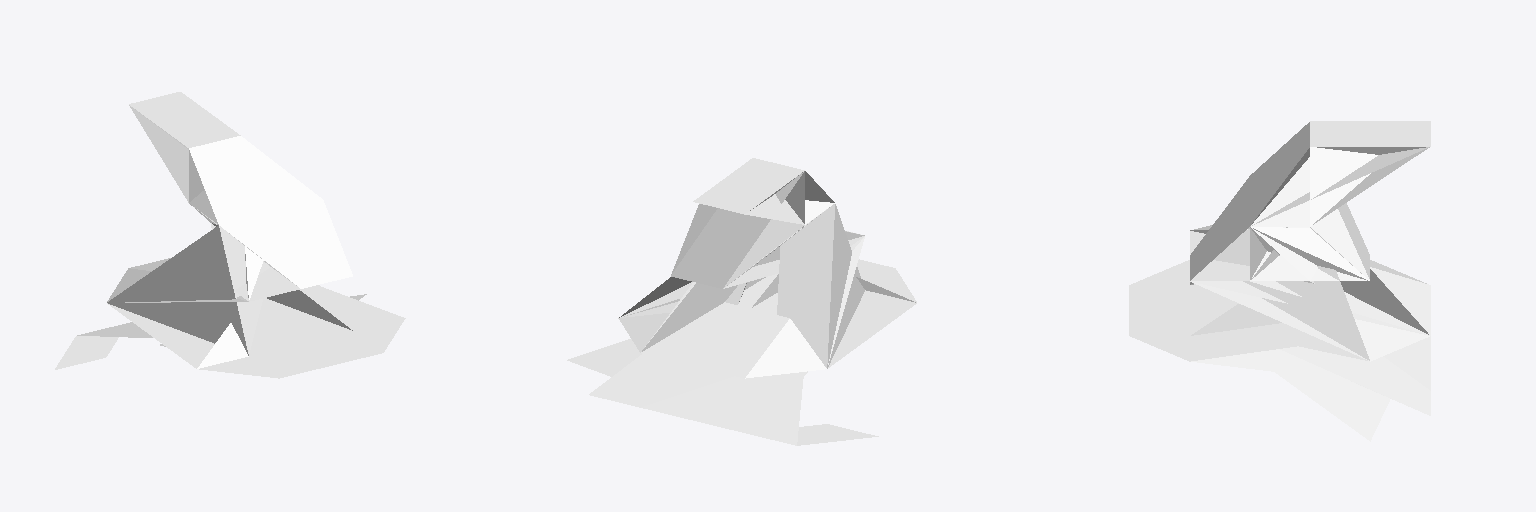
Rendered from BowGoblin_Run0.obj.
3 views of the same model, side by side, from view 1: azimuth 30°, elevation 25°; view 2: azimuth 150°, elevation 25°; view 3: azimuth 270°, elevation 25° (orthographic).
Size of the model in its own units: 6 by 4 by 5.